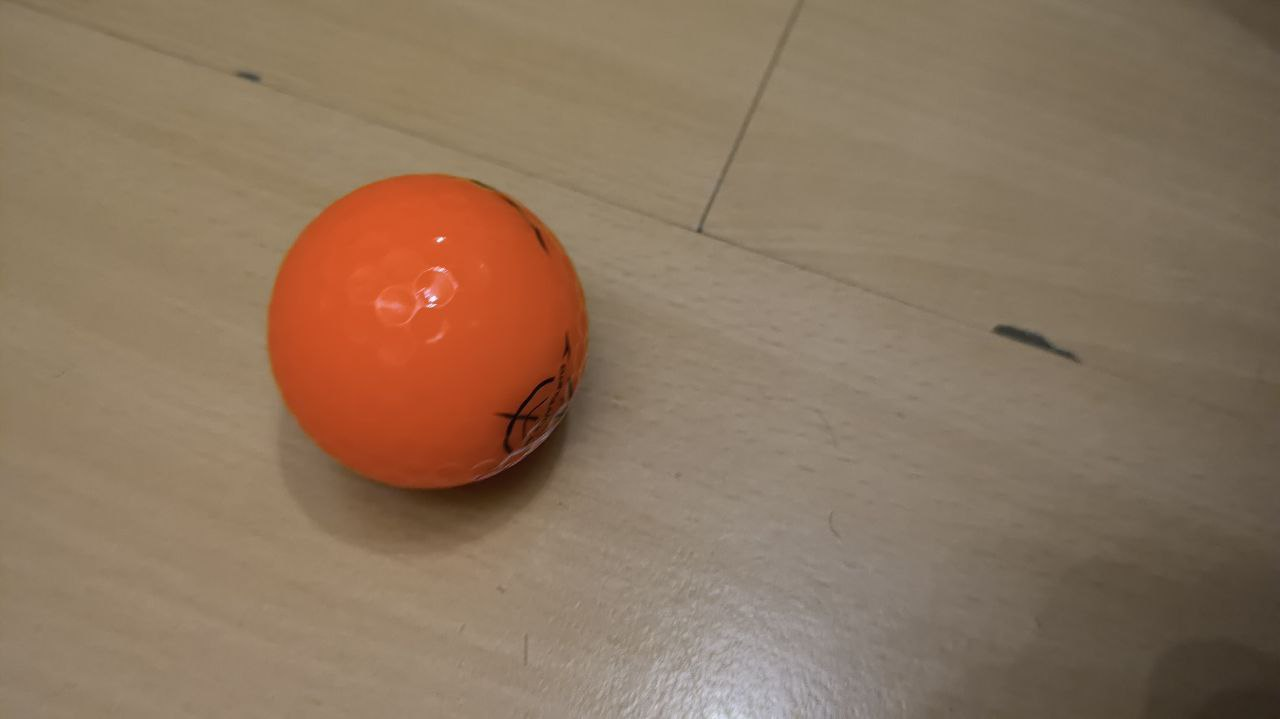orange_ball: (267, 174, 590, 489)
